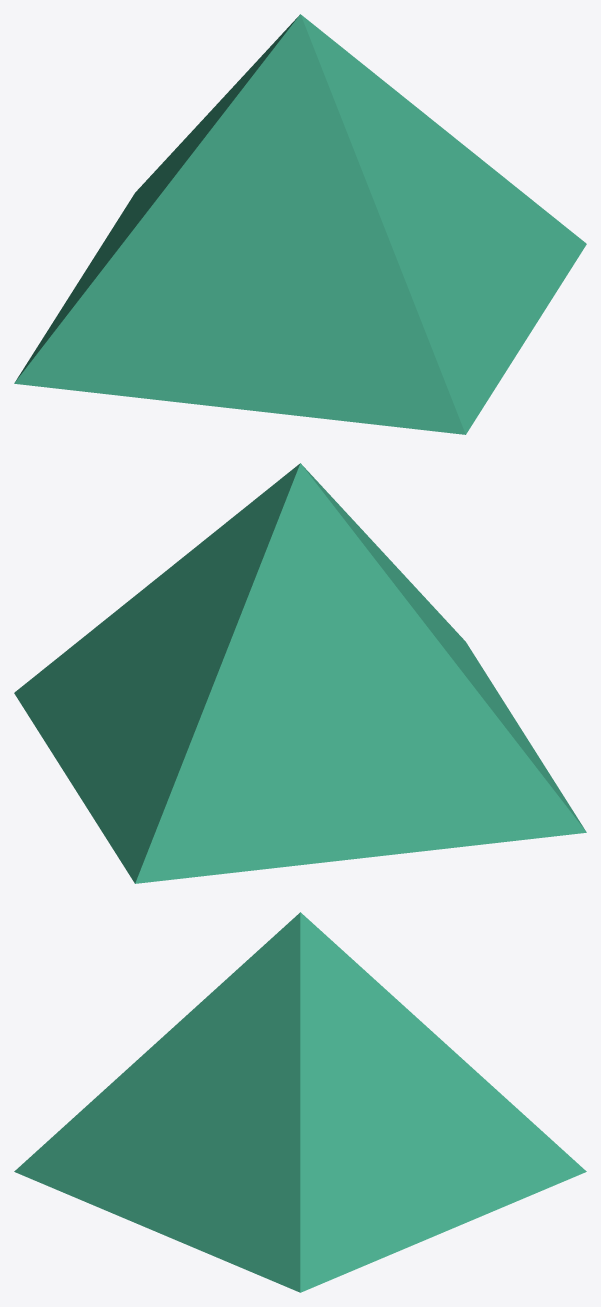
Rendered from J1.PiramideCuadrada.gltf.
3 views of the same model, one above another, from view 1: azimuth 30°, elevation 25°; view 2: azimuth 150°, elevation 25°; view 3: azimuth 270°, elevation 25° (orthographic). The views are drawn at different scales.
Visible parts, largest first — view 1: J1.Piramide Cuadrada; view 2: J1.Piramide Cuadrada; view 3: J1.Piramide Cuadrada.
Boxes of the visible parts, bbox=[...] form: J1.Piramide Cuadrada: bbox=[14, 14, 586, 434]; J1.Piramide Cuadrada: bbox=[14, 463, 586, 883]; J1.Piramide Cuadrada: bbox=[14, 912, 586, 1292].
Size of the model in its own units: 20 by 10 by 20.
